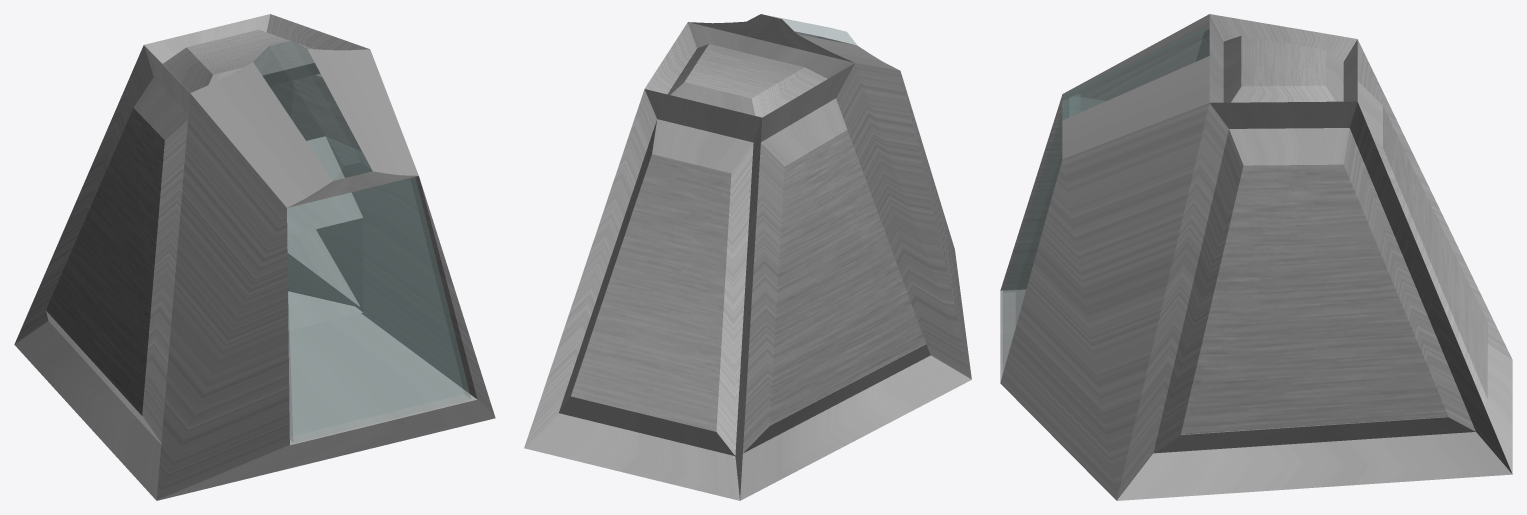
Rendered from Prism.fbx.
3 renders of one model, left to right at view 1: azimuth 30°, elevation 25°; view 2: azimuth 150°, elevation 25°; view 3: azimuth 270°, elevation 25°, orthographic. The views are drawn at different scales.
Parts seen in each view (by area): view 1: pCube12; view 2: pCube12; view 3: pCube12.
Boxes of the visible parts, x1,y1,x2,y2 form: pCube12: (14, 14, 495, 500); pCube12: (524, 14, 971, 500); pCube12: (1000, 14, 1512, 500).
Bounding box in the file's own units: 3.12 × 3.36 × 4.03.
2 materials, 1 textured.
